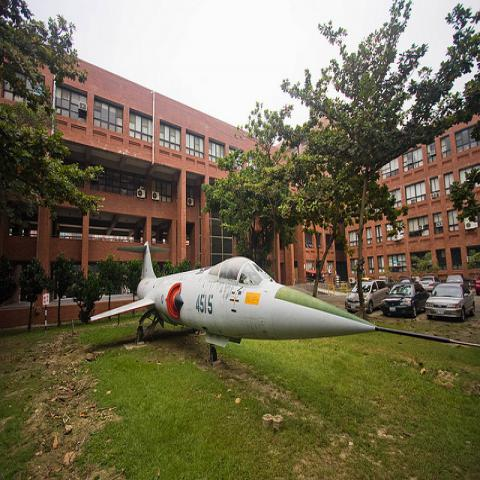car: (426, 282, 476, 320), (382, 282, 430, 317), (344, 275, 389, 311), (419, 276, 442, 291), (446, 275, 464, 285), (474, 272, 480, 295)
